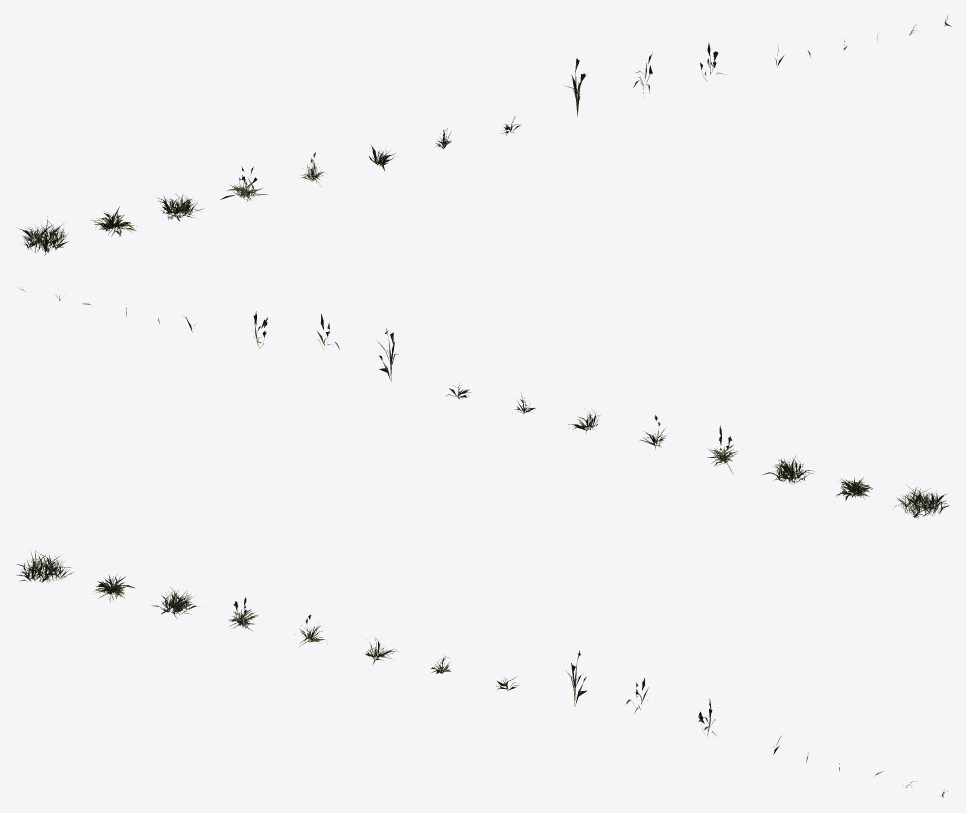
Rendered from grassTuft.glb.
3 views of the same model, one above another, from view 1: azimuth 30°, elevation 25°; view 2: azimuth 150°, elevation 25°; view 3: azimuth 330°, elevation 25° (orthographic).
Parts seen in each view (by area): view 1: grass_medium_01_large_a_LOD0, grass_medium_01_large_c_LOD0; view 2: grass_medium_01_large_a_LOD0, grass_medium_01_large_c_LOD0; view 3: grass_medium_01_large_a_LOD0.
Boxes of the visible parts, x1,y1,x2,y2 form: grass_medium_01_large_a_LOD0: (20,216,68,255); grass_medium_01_large_c_LOD0: (157,194,203,220); grass_medium_01_large_a_LOD0: (893,484,949,518); grass_medium_01_large_c_LOD0: (762,455,814,484); grass_medium_01_large_a_LOD0: (16,550,73,582).
Size of the model in its own units: 5.6 by 0.3389 by 0.3266.
Materials: 1 (1 with a texture image).
